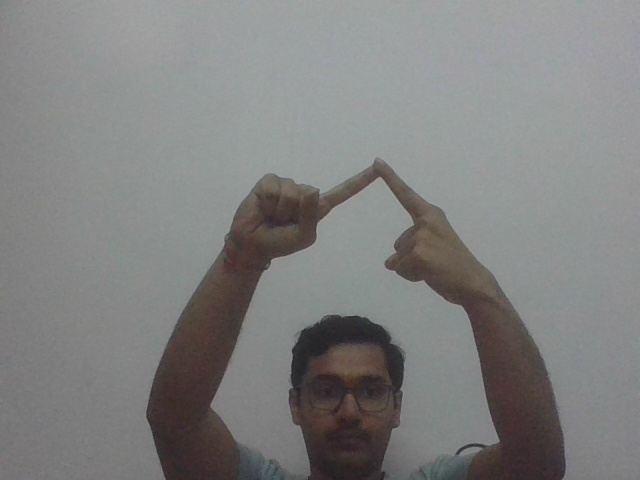E: (236, 153, 489, 290)
